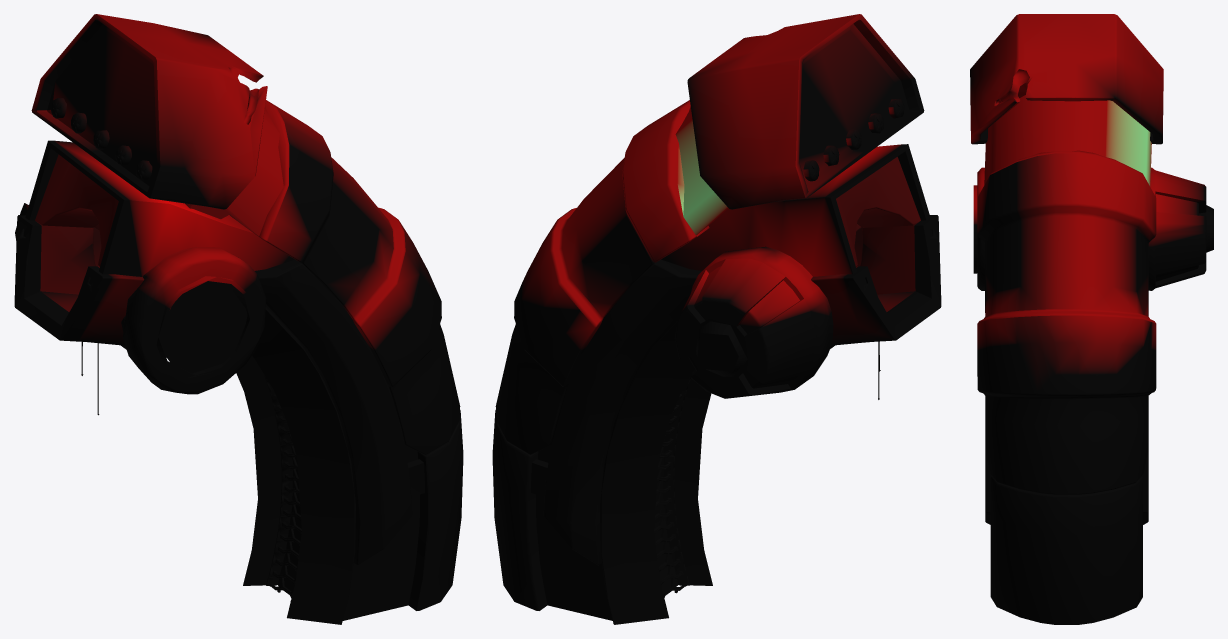
File: spacering_environment_generic_B.gltf
3 views of the same model, side by side, from view 1: azimuth 30°, elevation 25°; view 2: azimuth 150°, elevation 25°; view 3: azimuth 270°, elevation 25° (orthographic). The views are drawn at different scales.
Visible parts, largest first — view 1: spacering_environment_generic_B; view 2: spacering_environment_generic_B; view 3: spacering_environment_generic_B.
Part boxes in pixels (x1,y1,x2,y2): spacering_environment_generic_B: (14, 14, 463, 624); spacering_environment_generic_B: (492, 14, 941, 624); spacering_environment_generic_B: (970, 14, 1213, 624).
Size of the model in its own units: 43.93 by 60.87 by 27.66.
